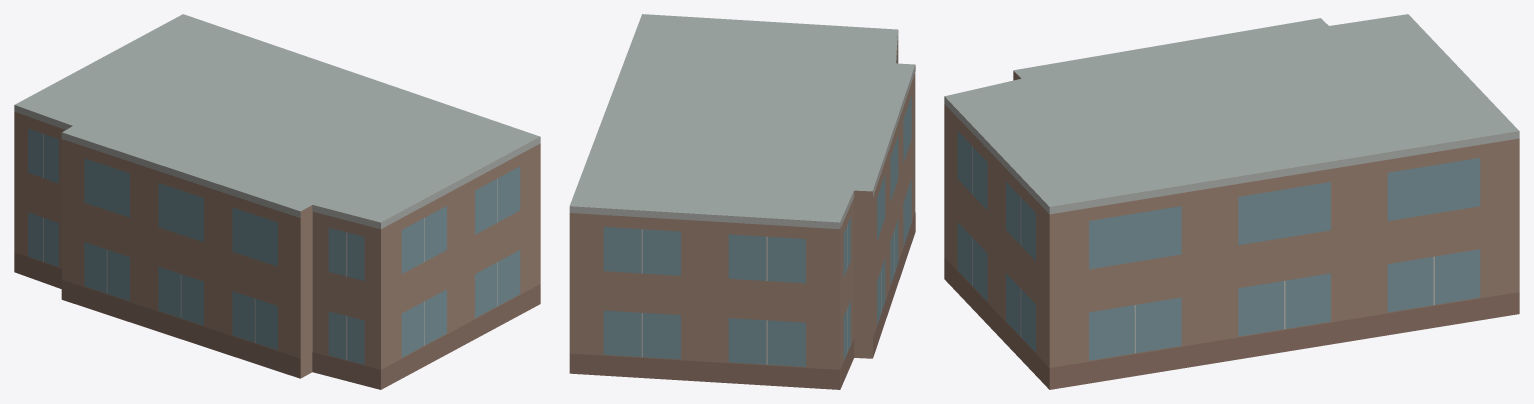
The model's file is survey-upis-32751733.glb.
The picture shows the model from 3 angles, left to right: view 1: azimuth 30°, elevation 25°; view 2: azimuth 150°, elevation 25°; view 3: azimuth 270°, elevation 25°; orthographic projection. The views are drawn at different scales.
Visible parts, largest first — view 1: survey-upis-32751733.tmp; view 2: survey-upis-32751733.tmp; view 3: survey-upis-32751733.tmp.
Part boxes in pixels (left/top/right/bottom): survey-upis-32751733.tmp: left=14, top=14, right=540, bottom=389; survey-upis-32751733.tmp: left=569, top=14, right=915, bottom=389; survey-upis-32751733.tmp: left=944, top=14, right=1519, bottom=389.
Size of the model in its own units: 13.83 by 6.1 by 17.41.
